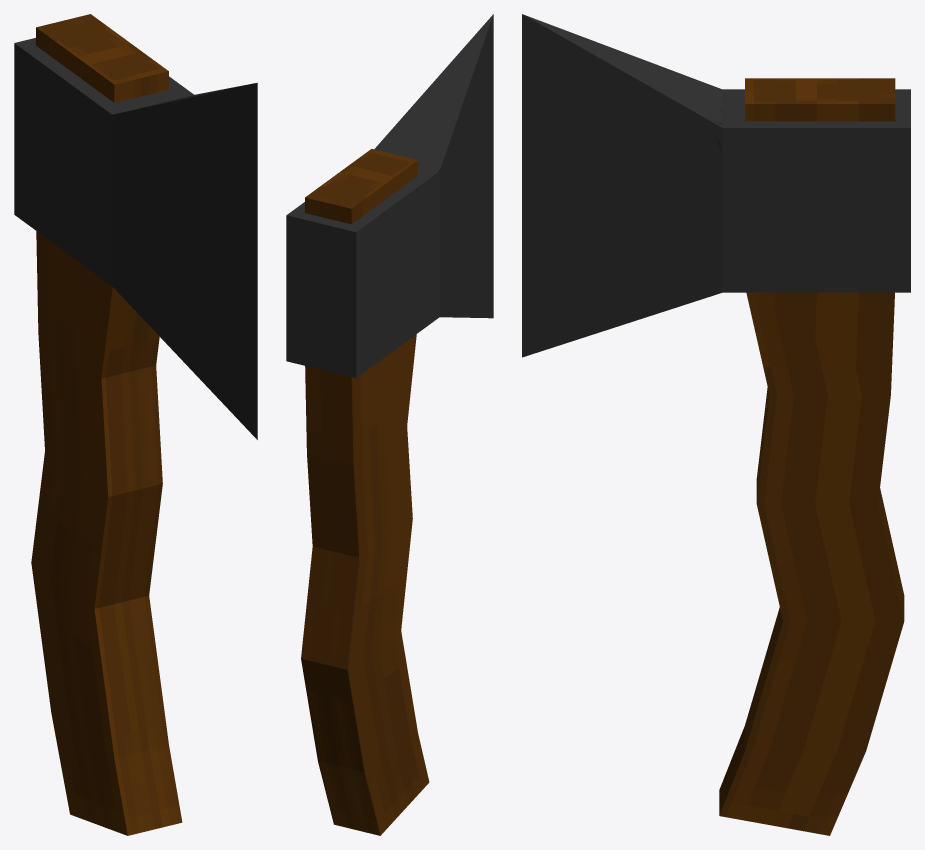
The model's file is Axe.fbx.
3 renders of one model, left to right at view 1: azimuth 30°, elevation 25°; view 2: azimuth 150°, elevation 25°; view 3: azimuth 270°, elevation 25°, orthographic. The views are drawn at different scales.
Parts seen in each view (by area): view 1: Cube; view 2: Cube; view 3: Cube.
Part boxes in pixels (box(x1,y1,x2,y2)): Cube: box(14, 14, 257, 835); Cube: box(286, 14, 493, 835); Cube: box(522, 14, 910, 835).
Size of the model in its own units: 30 by 294 by 128.
